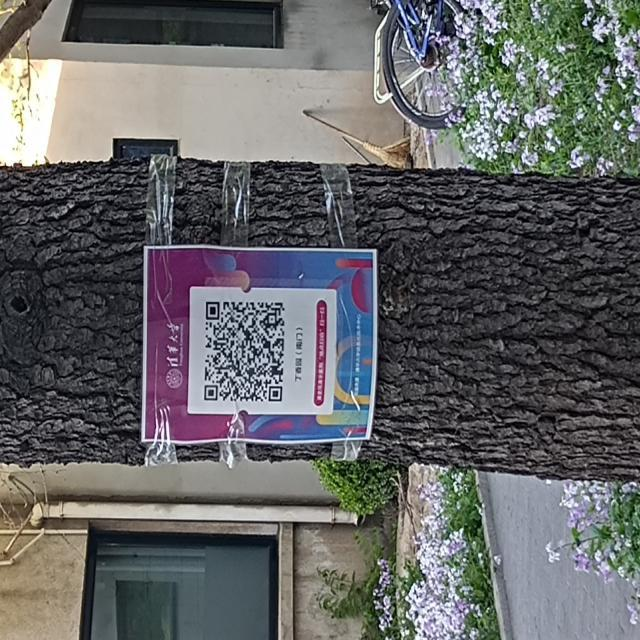qr_code: (203, 301, 285, 405)
